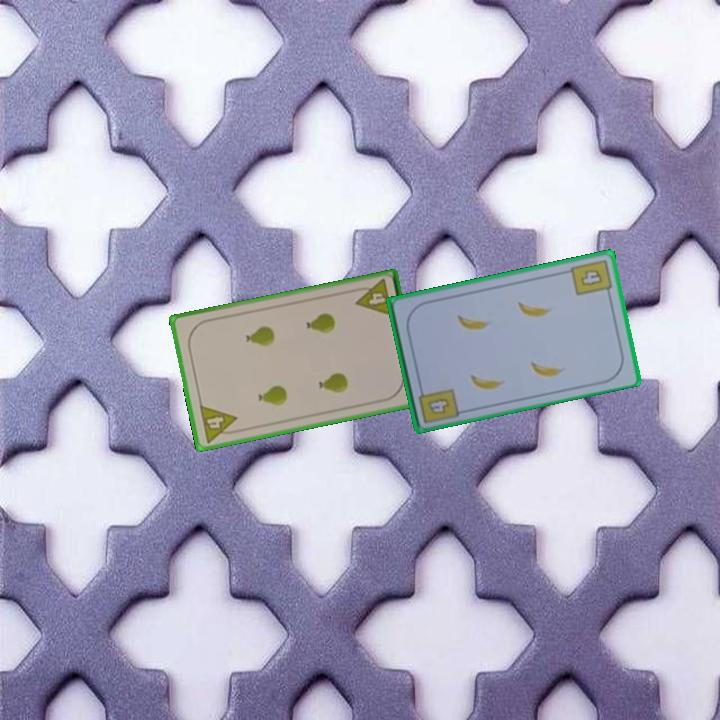4b: (567, 255, 614, 299), (415, 382, 461, 426)
4p: (196, 401, 242, 446), (350, 276, 395, 320)
